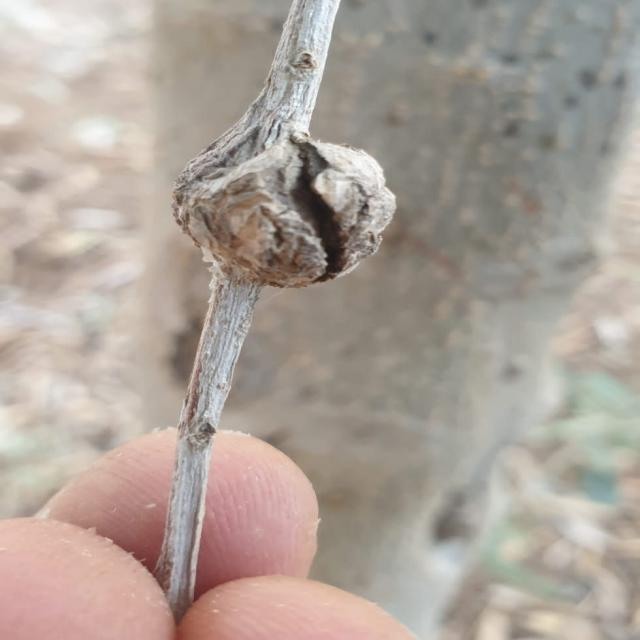Tuberculosis: (173, 99, 395, 288)
